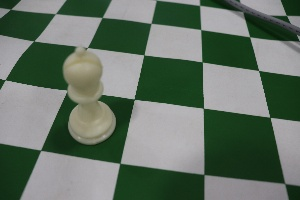white_bishop: (58, 31, 118, 154)
